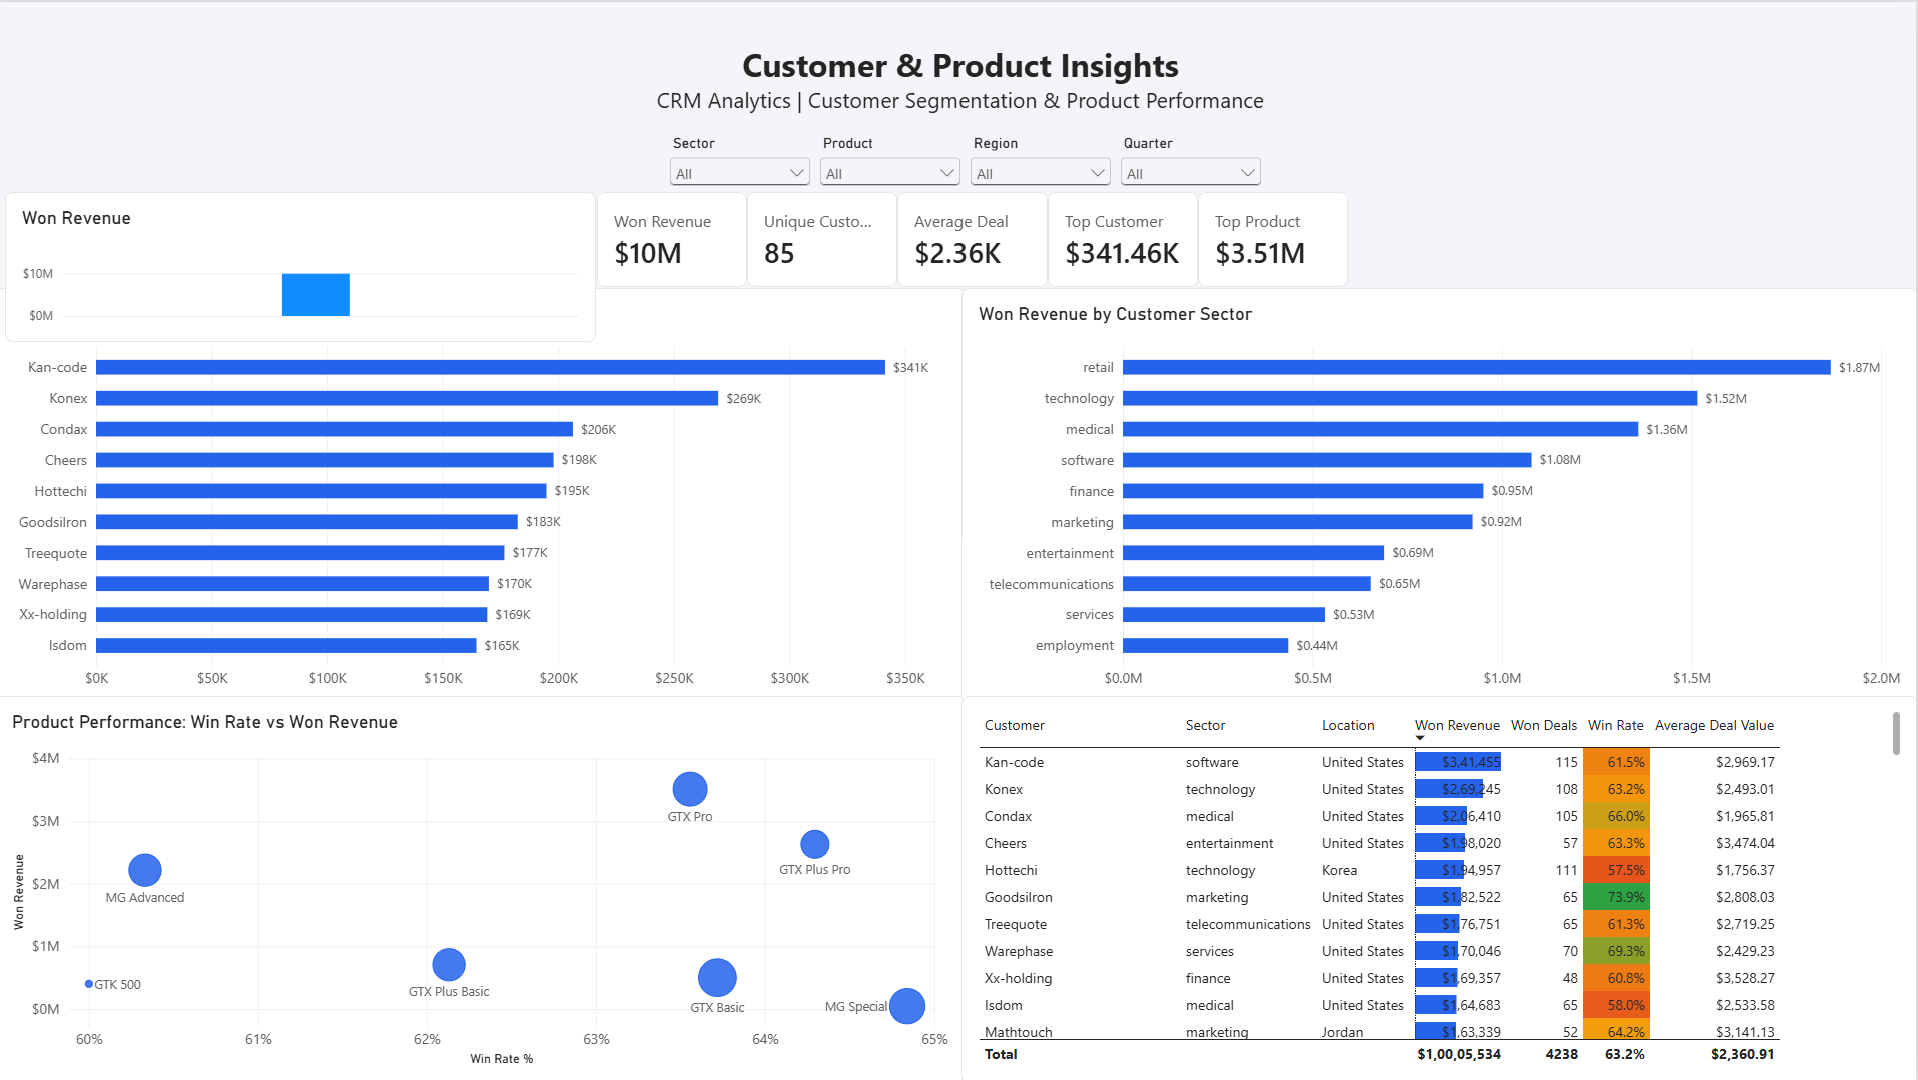

The page's visual inventory and layout, read from the dashboard file:
{"tool":"powerbi","page":{"name":"Customer & Product Insights","canvas":[1920,1080],"ordinal":2},"visuals":[{"type":"textbox","box":[10,40,1910,90],"z":0},{"type":"cardVisual","fields":{"Data":["sales pipeline.Average Deal Value"]},"box":[901.2,190,150,95],"z":1000},{"type":"cardVisual","fields":{"Data":["sales pipeline.Top Customer Revenue"]},"box":[1051.2,190,150,95],"z":2000},{"type":"cardVisual","fields":{"Data":["sales pipeline.Top Product Revenue"]},"box":[1201.2,190,150,95],"z":3000},{"type":"cardVisual","fields":{"Data":["sales pipeline.Unique Customers"]},"box":[751.2,190,150,95],"z":4000},{"type":"cardVisual","fields":{"Data":["sales pipeline.Won Revenue"]},"box":[601.2,190,150,95],"z":5000},{"type":"slicer","fields":{"Values":["accounts.sector"]},"box":[670.5,131.2,150,95],"z":6000},{"type":"slicer","fields":{"Values":["products.product"]},"box":[820,131.2,150,95],"z":7000},{"type":"slicer","fields":{"Values":["sales teams.regional_office"]},"box":[970,131.2,150,95],"z":8000},{"type":"slicer","fields":{"Values":["Date.Quarter"]},"box":[1120,131.2,150,95],"z":9000},{"type":"clusteredBarChart","title":"Top 10 Customers by Won Revenue","fields":{"Category":["accounts.account"],"Y":["sales pipeline.Won Revenue"]},"box":[0,286,970,422],"z":9001},{"type":"clusteredBarChart","title":"Won Revenue by Customer Sector","fields":{"Category":["accounts.sector"],"Y":["sales pipeline.Won Revenue"]},"box":[966,286,956,422],"z":9002},{"type":"scatterChart","title":"Product Performance: Win Rate vs Won Revenue","fields":{"Category":["products.product"],"Size":["sales pipeline.Won Deals"],"X":["sales pipeline.Win Rate %"],"Y":["sales pipeline.Won Revenue"]},"box":[0,694,970,386],"z":9003},{"type":"tableEx","fields":{"Values":["accounts.account","accounts.sector","accounts.office_location","sales pipeline.Won Revenue","sales pipeline.Won Deals","sales pipeline.Win Rate %","sales pipeline.Average Deal Value"]},"box":[966,694,956,388],"z":9004},{"type":"clusteredColumnChart","fields":{"Y":["sales pipeline.Won Revenue"]},"box":[10,190,591,150],"z":9005}]}

Visuals, with their boxes in screenshot pixels (x1, y1, x2, y2), scaled from the page's 1920x1080 canvas onto the 1918x1080 screenshot:
textbox: (left=10, top=40, right=1917, bottom=130)
cardVisual - sales pipeline.Average Deal Value: (left=900, top=190, right=1050, bottom=285)
cardVisual - sales pipeline.Top Customer Revenue: (left=1050, top=190, right=1200, bottom=285)
cardVisual - sales pipeline.Top Product Revenue: (left=1200, top=190, right=1350, bottom=285)
cardVisual - sales pipeline.Unique Customers: (left=750, top=190, right=900, bottom=285)
cardVisual - sales pipeline.Won Revenue: (left=601, top=190, right=750, bottom=285)
slicer - accounts.sector: (left=670, top=131, right=820, bottom=226)
slicer - products.product: (left=819, top=131, right=969, bottom=226)
slicer - sales teams.regional_office: (left=969, top=131, right=1119, bottom=226)
slicer - Date.Quarter: (left=1119, top=131, right=1269, bottom=226)
"Top 10 Customers by Won Revenue" clusteredBarChart: (left=0, top=286, right=969, bottom=708)
"Won Revenue by Customer Sector" clusteredBarChart: (left=965, top=286, right=1917, bottom=708)
"Product Performance: Win Rate vs Won Revenue" scatterChart: (left=0, top=694, right=969, bottom=1079)
tableEx - accounts.account x accounts.sector: (left=965, top=694, right=1917, bottom=1079)
clusteredColumnChart - sales pipeline.Won Revenue: (left=10, top=190, right=600, bottom=340)
